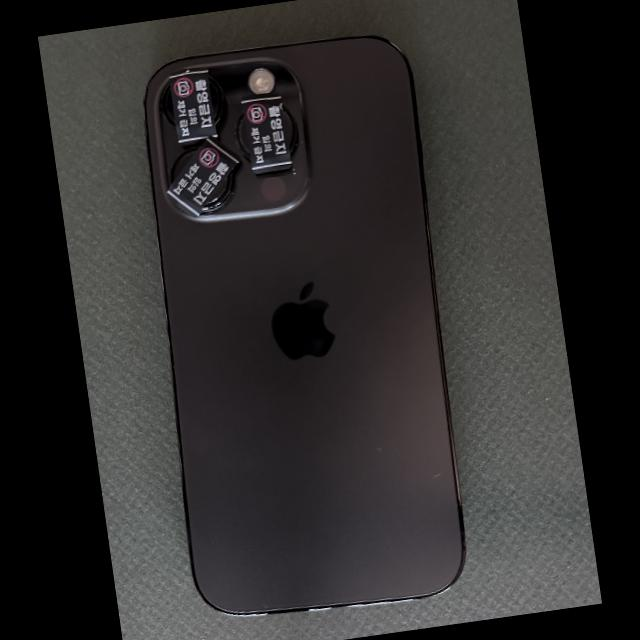lens: (172, 146, 201, 184), (209, 76, 225, 125), (283, 106, 297, 154)
phone: (145, 35, 467, 616)
sticker: (167, 136, 241, 218), (241, 92, 292, 175), (169, 67, 219, 147)
